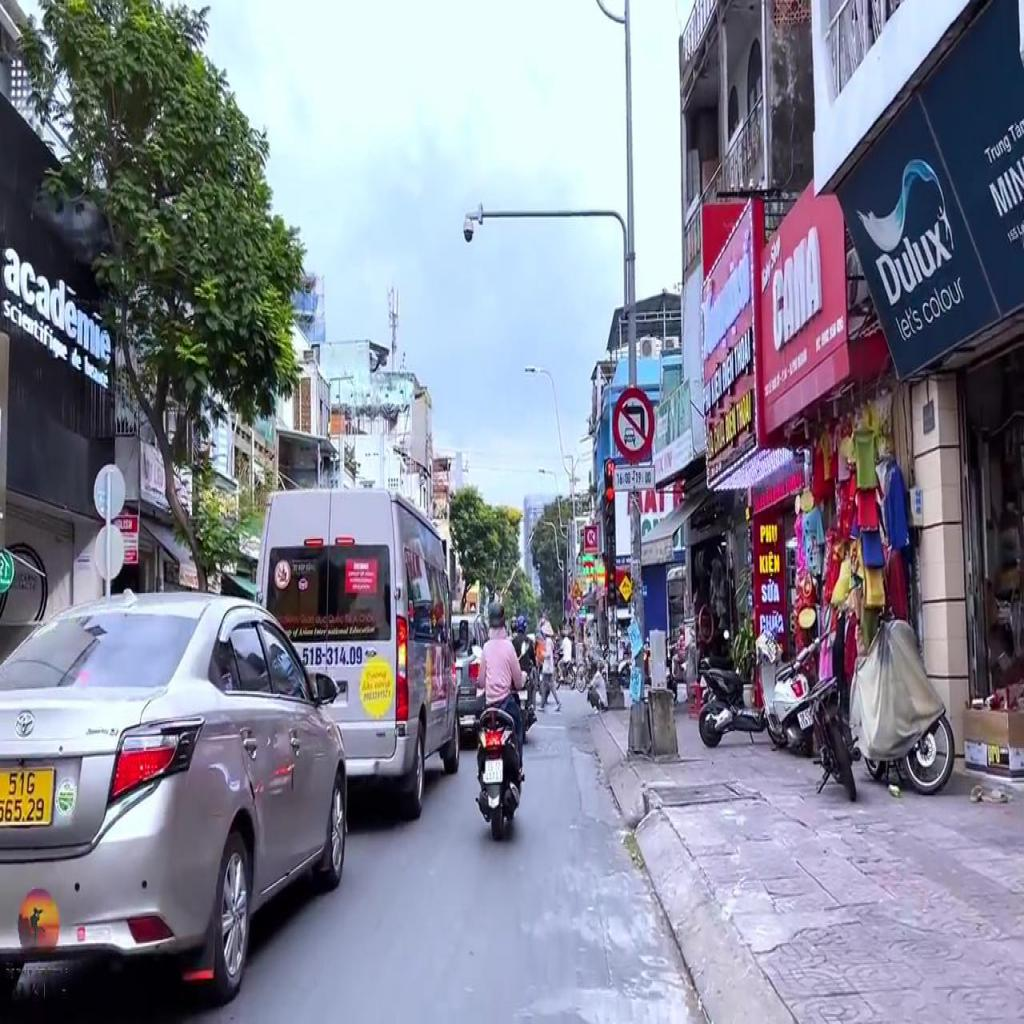cam_o_to_re_trai: (614, 387, 654, 462)
khac: (614, 465, 654, 492)
